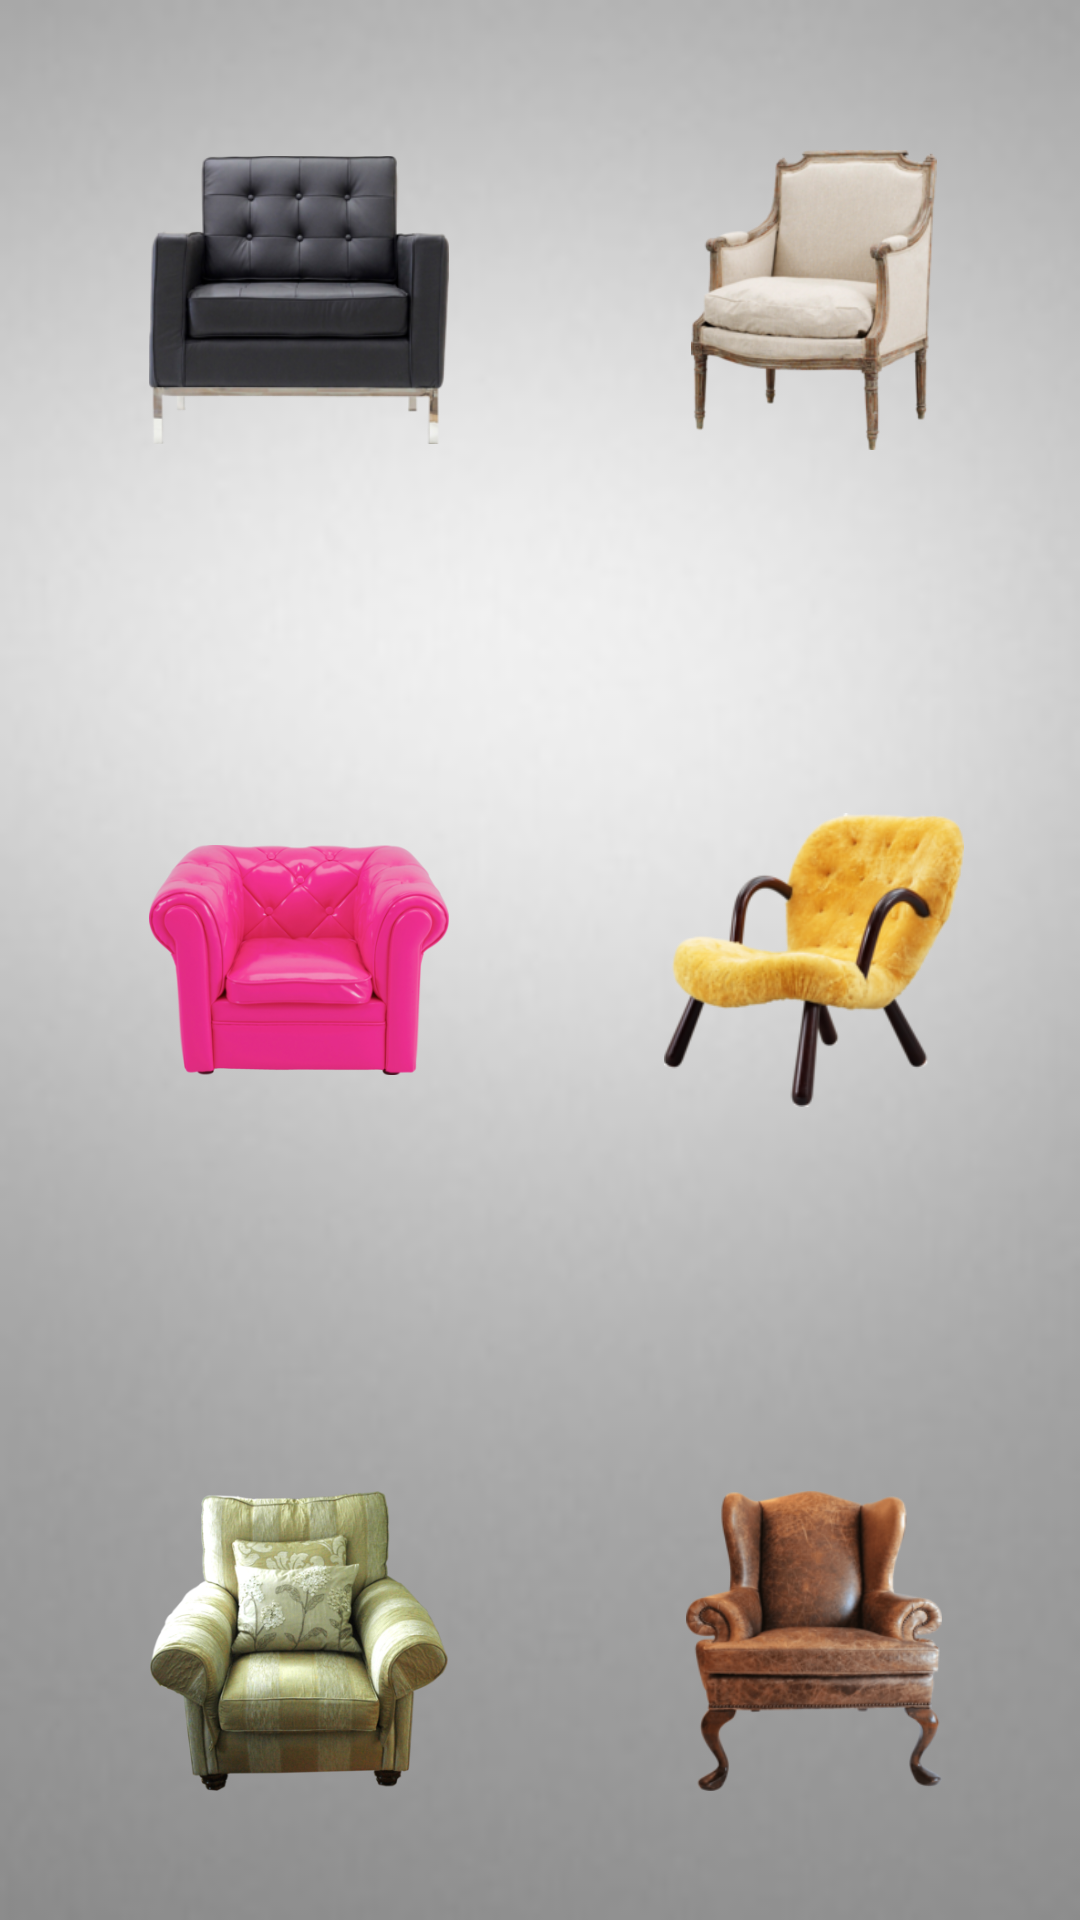

Icons on this 1080w x 1920h Android screen, each with the point to tap as (x,y):
armchair: (809,300), (299,303), (814,960), (299,977), (299,1641), (814,1641)
